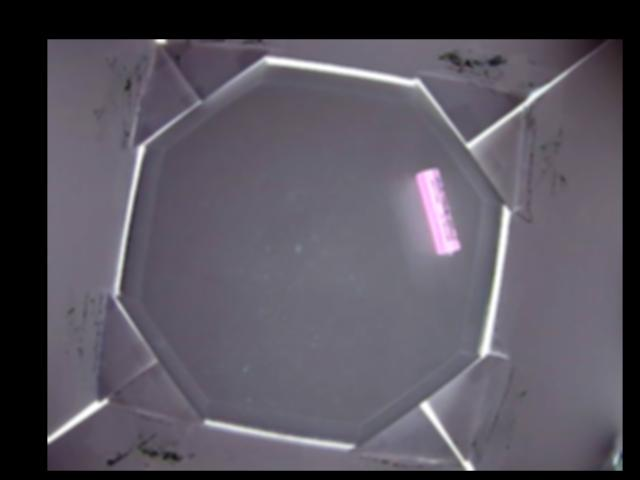Battery: (414, 167, 461, 255)
